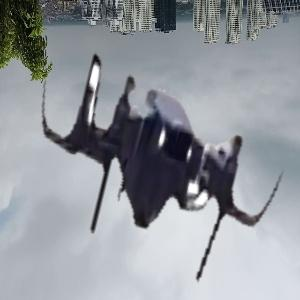drone: (22, 20, 295, 293)
